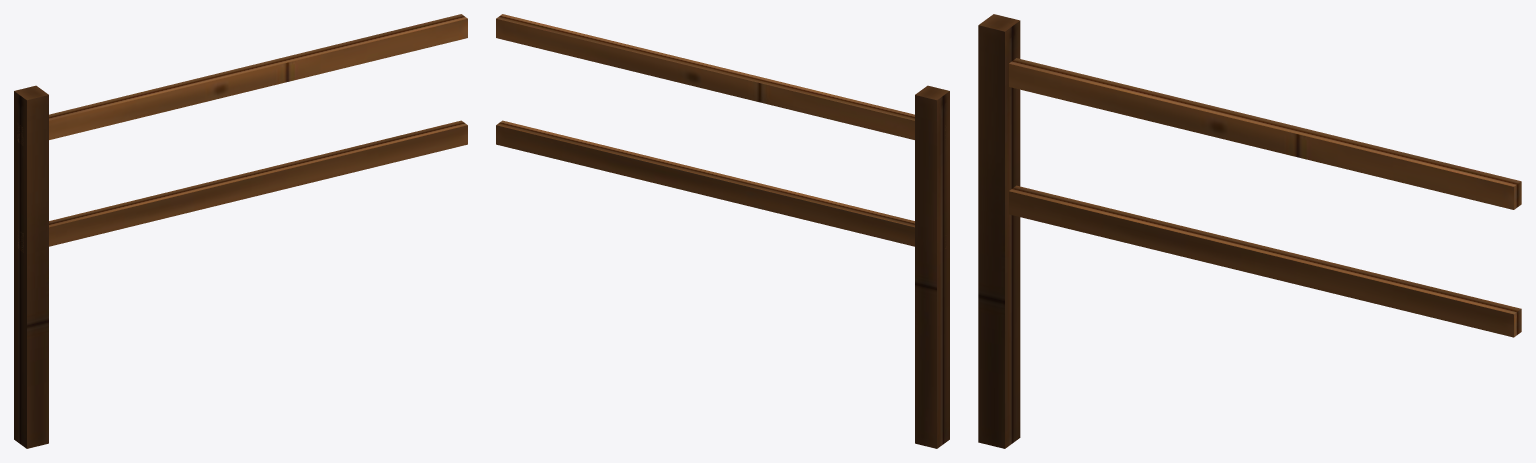
Rendered from fence.glb.
3 renders of one model, left to right at view 1: azimuth 30°, elevation 25°; view 2: azimuth 150°, elevation 25°; view 3: azimuth 330°, elevation 25°, orthographic. The views are drawn at different scales.
Visible parts, largest first — view 1: props_0_0; view 2: props_0_0; view 3: props_0_0.
Part boxes in pixels (x1,y1,x2,y2): props_0_0: [14, 14, 467, 448]; props_0_0: [496, 14, 949, 448]; props_0_0: [978, 14, 1521, 448].
Size of the model in its own units: 2.4 by 1.8 by 0.12.
Materials: 1 (1 with a texture image).
